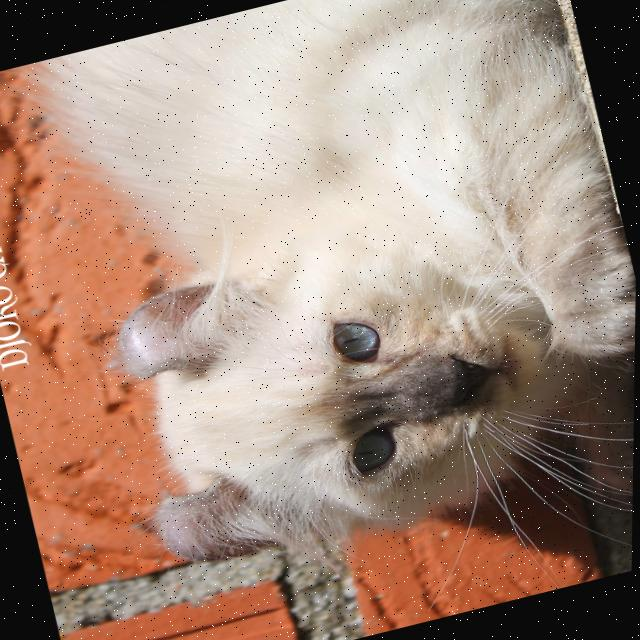American Curl: (2, 0, 640, 604)
